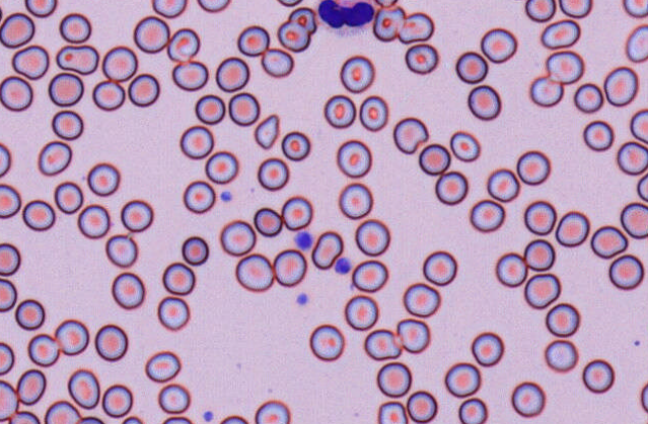GRAN: (318, 0, 374, 37)
PLT: (332, 255, 355, 276), (293, 230, 314, 252), (220, 189, 233, 204), (296, 293, 311, 306), (203, 411, 214, 422)
RBC: (235, 253, 274, 292), (339, 54, 375, 93), (336, 139, 372, 178), (603, 66, 638, 106), (523, 272, 560, 309), (219, 219, 256, 256), (11, 44, 49, 80), (133, 15, 169, 53), (354, 218, 390, 256), (55, 44, 99, 75), (67, 368, 100, 409), (608, 253, 644, 290), (480, 27, 517, 63), (590, 224, 628, 259), (402, 282, 440, 317), (309, 323, 344, 361), (545, 50, 584, 84), (272, 248, 306, 287), (101, 45, 137, 81), (54, 318, 89, 355), (555, 210, 590, 247), (338, 182, 373, 219), (94, 323, 128, 361), (111, 271, 145, 309), (0, 12, 35, 48), (422, 250, 457, 286), (444, 362, 480, 397), (376, 361, 411, 397), (510, 381, 545, 417), (37, 140, 72, 176), (540, 18, 580, 49), (545, 302, 580, 337), (344, 294, 378, 330), (215, 56, 249, 92), (469, 198, 505, 232), (467, 84, 501, 120), (516, 149, 550, 185), (48, 72, 84, 106), (351, 259, 388, 292), (363, 328, 401, 360), (179, 124, 213, 159), (396, 318, 430, 353), (434, 170, 468, 205), (470, 331, 504, 366), (0, 75, 33, 111), (157, 295, 190, 331), (77, 203, 110, 239), (144, 350, 181, 382), (204, 150, 238, 184), (86, 162, 120, 196), (167, 27, 200, 62), (523, 200, 556, 235), (127, 72, 160, 107), (582, 358, 615, 393), (171, 60, 208, 91), (486, 168, 519, 202), (162, 261, 195, 295), (323, 94, 356, 128), (544, 339, 578, 372), (105, 233, 138, 267), (495, 252, 527, 287), (16, 368, 46, 405), (455, 50, 488, 83), (182, 180, 215, 213), (120, 199, 153, 232), (276, 20, 310, 52), (529, 75, 563, 107), (27, 333, 59, 367), (101, 383, 133, 417), (257, 157, 289, 191), (228, 91, 259, 126), (281, 195, 312, 230), (359, 94, 388, 131), (236, 24, 269, 56), (523, 238, 555, 271), (92, 79, 125, 111), (22, 199, 55, 231), (616, 141, 647, 175), (404, 43, 438, 74), (418, 143, 450, 175), (582, 119, 614, 151), (406, 390, 437, 423), (260, 47, 294, 77), (620, 202, 647, 239), (59, 12, 91, 43), (14, 298, 45, 330), (449, 130, 480, 162), (51, 109, 83, 140), (157, 383, 190, 413), (53, 181, 83, 214), (194, 94, 225, 124), (573, 82, 603, 113), (281, 130, 310, 161), (254, 399, 290, 423), (44, 400, 81, 423), (253, 207, 282, 236), (181, 235, 209, 265), (625, 24, 647, 62), (0, 379, 18, 421), (458, 397, 487, 423), (0, 183, 21, 218), (377, 400, 407, 423), (524, 0, 555, 22), (0, 242, 20, 276), (629, 108, 647, 143), (151, 0, 186, 18), (558, 0, 592, 18), (0, 277, 17, 312), (24, 0, 57, 17), (0, 341, 14, 375), (622, 0, 647, 18), (196, 0, 231, 12), (8, 410, 40, 423), (0, 142, 11, 177), (636, 172, 647, 202), (219, 414, 248, 423), (640, 381, 648, 413), (162, 415, 192, 423), (75, 415, 104, 423), (276, 0, 302, 7), (121, 415, 143, 423), (374, 0, 398, 7), (0, 4, 3, 24)
Schistocyte: (392, 116, 429, 153), (311, 230, 343, 270), (397, 13, 437, 42), (373, 6, 404, 41), (255, 113, 279, 151), (288, 7, 317, 35)
